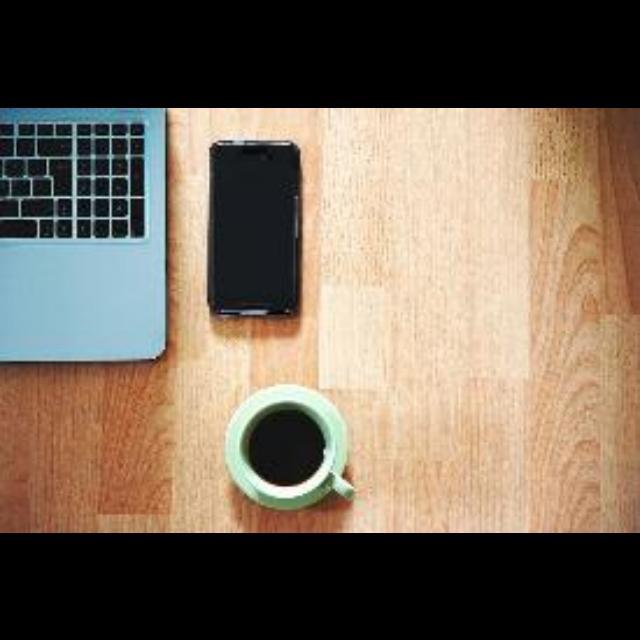Phone: (206, 138, 302, 318)
